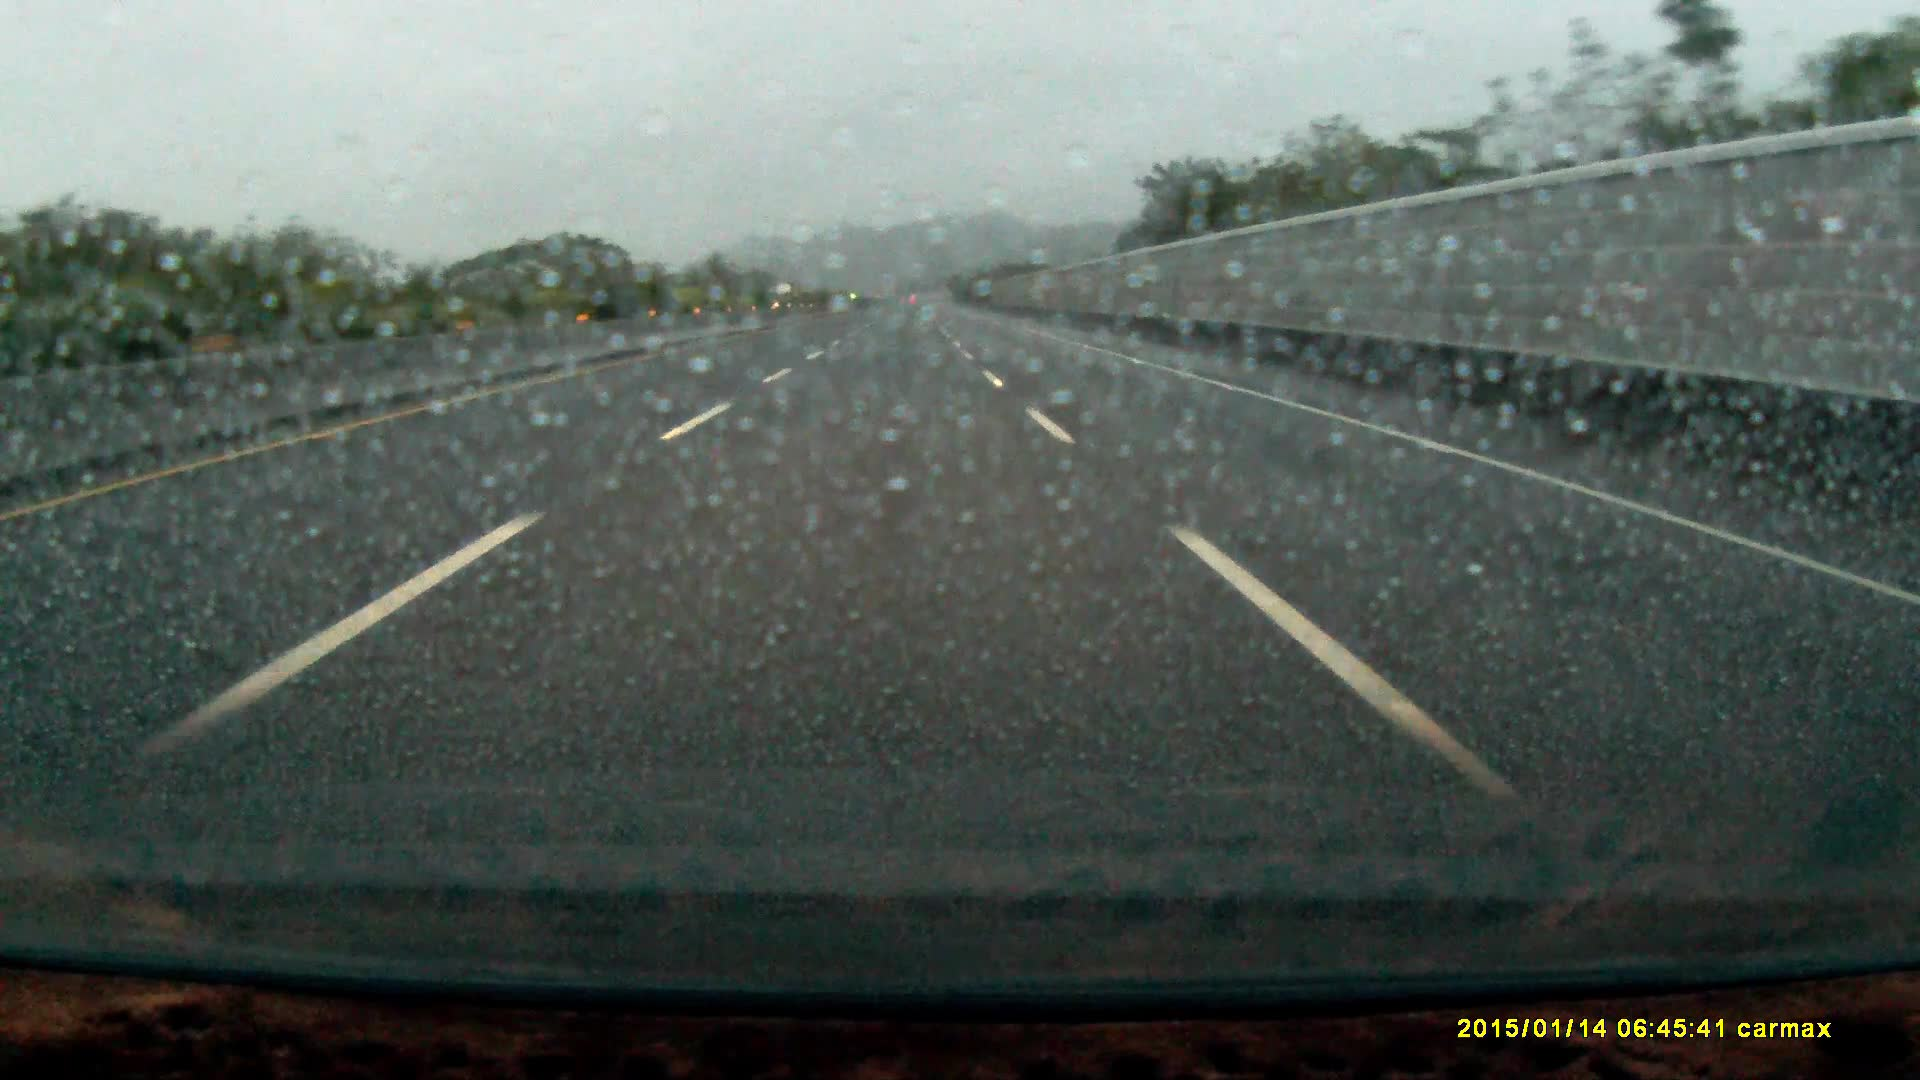vehicle: (775, 280, 800, 307)
